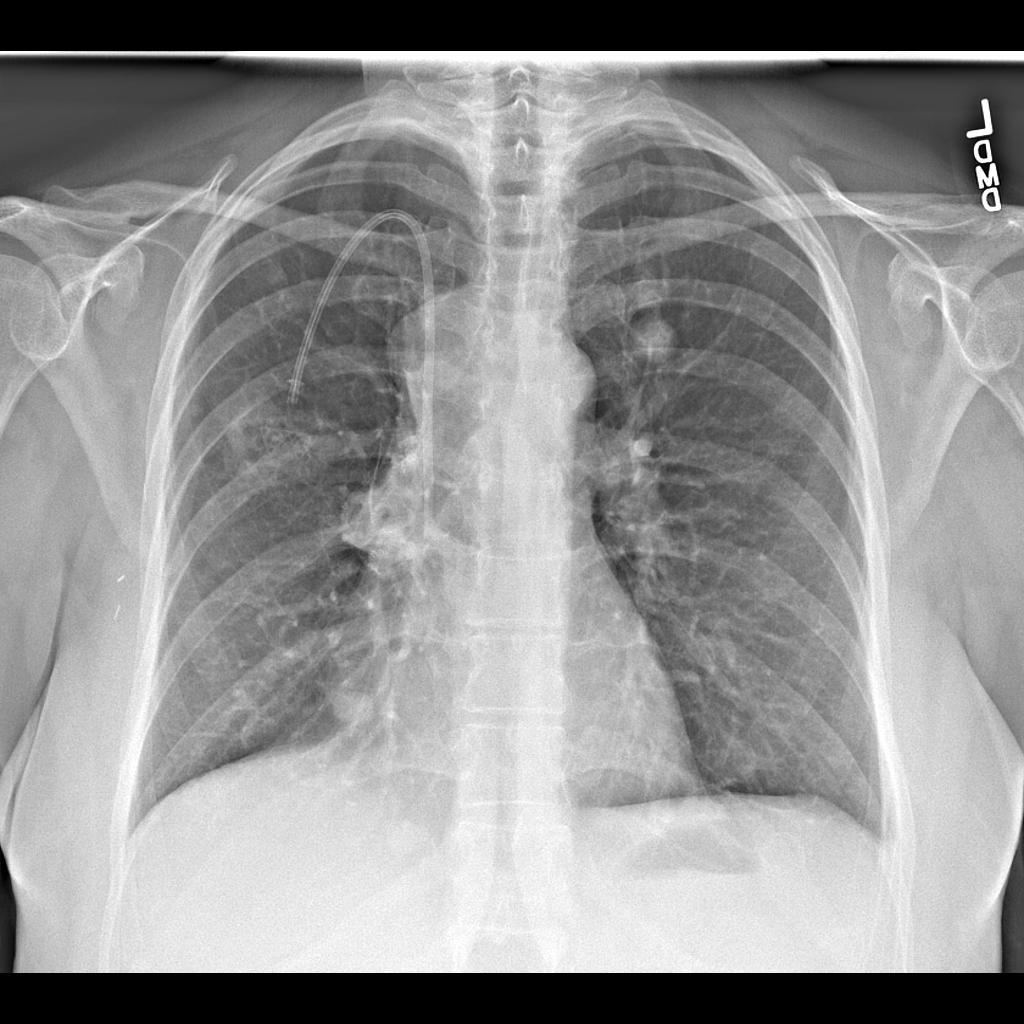Nodule: (626, 312, 687, 373), (326, 685, 385, 735)
